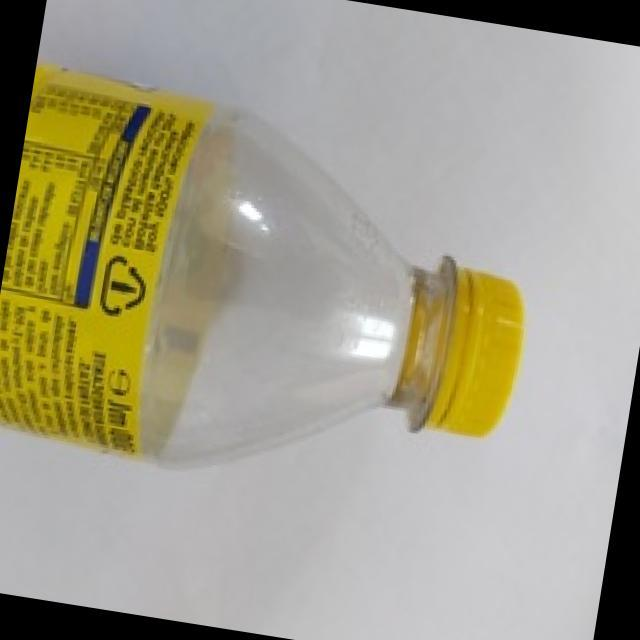good: (0, 61, 588, 535)
